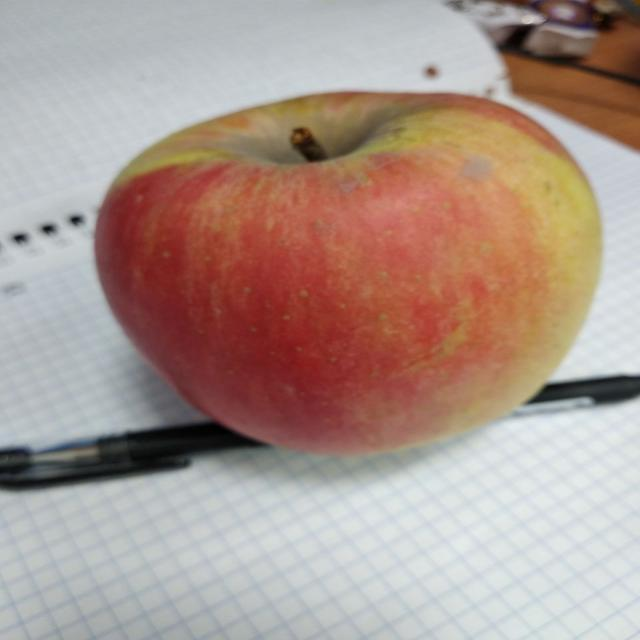Fresh Apple: (92, 95, 618, 467)
